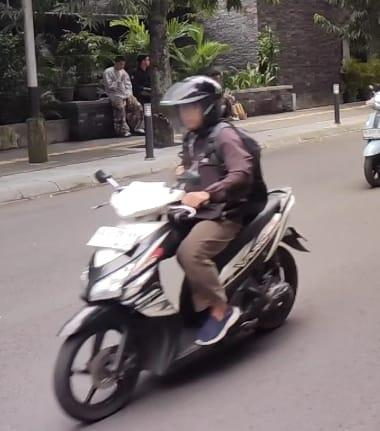helm: (159, 73, 226, 136)
riding: (52, 73, 313, 424)
